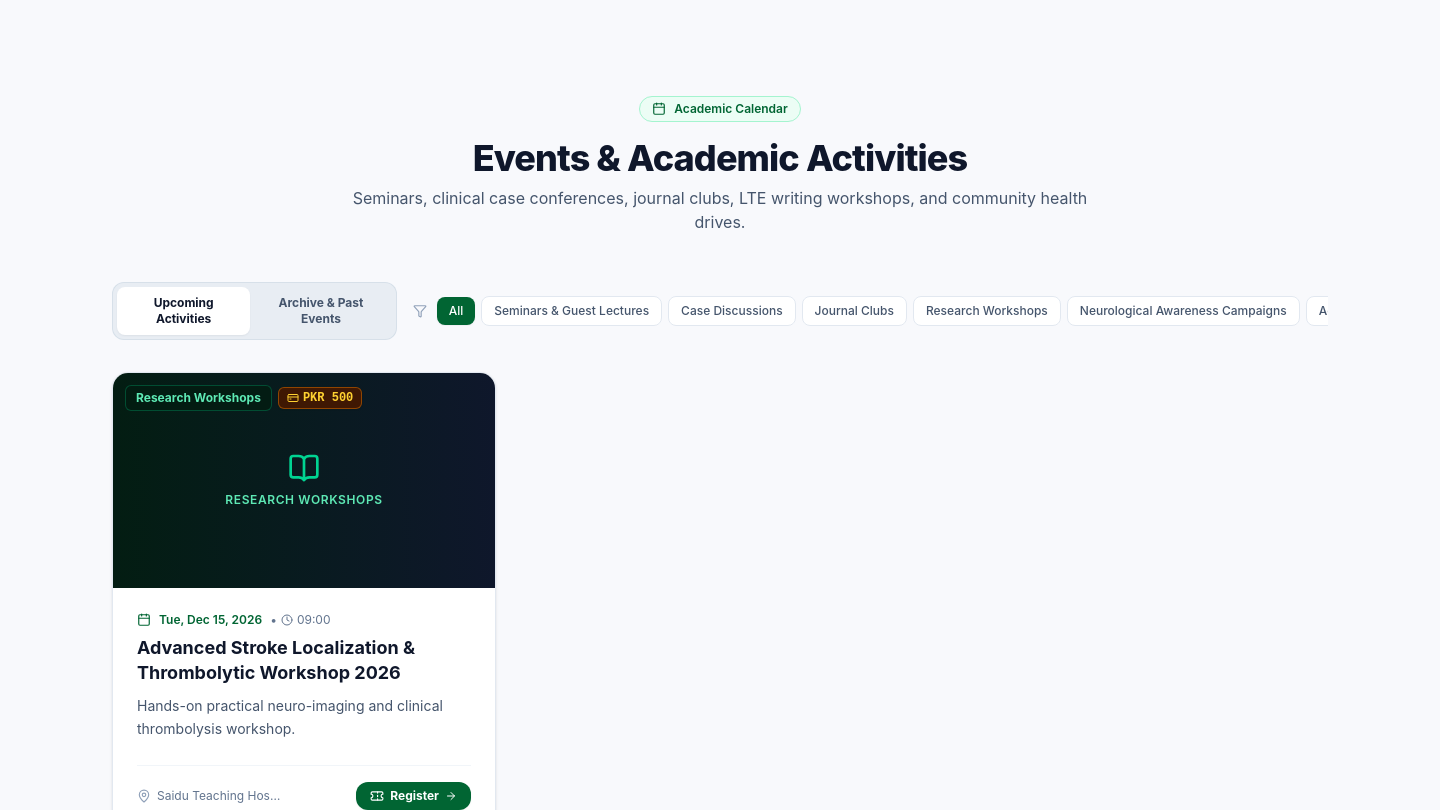
Test case: Event Registration System › renders Register button and pricing badge for upcoming events on EventsSection
The image size is (1440, 810).
Expected: the heading "Advanced Stroke Localization & Thrombolytic Workshop 2026" is shown, x1=137 y1=637 x2=415 y2=683
Expected: the text "PKR 500" is shown, x1=278 y1=387 x2=362 y2=409
# Clicking Register opens the registration modal with payment details
Click the button "Register": x=414, y=796 x1=356 y1=782 x2=471 y2=809
(page scrolled)
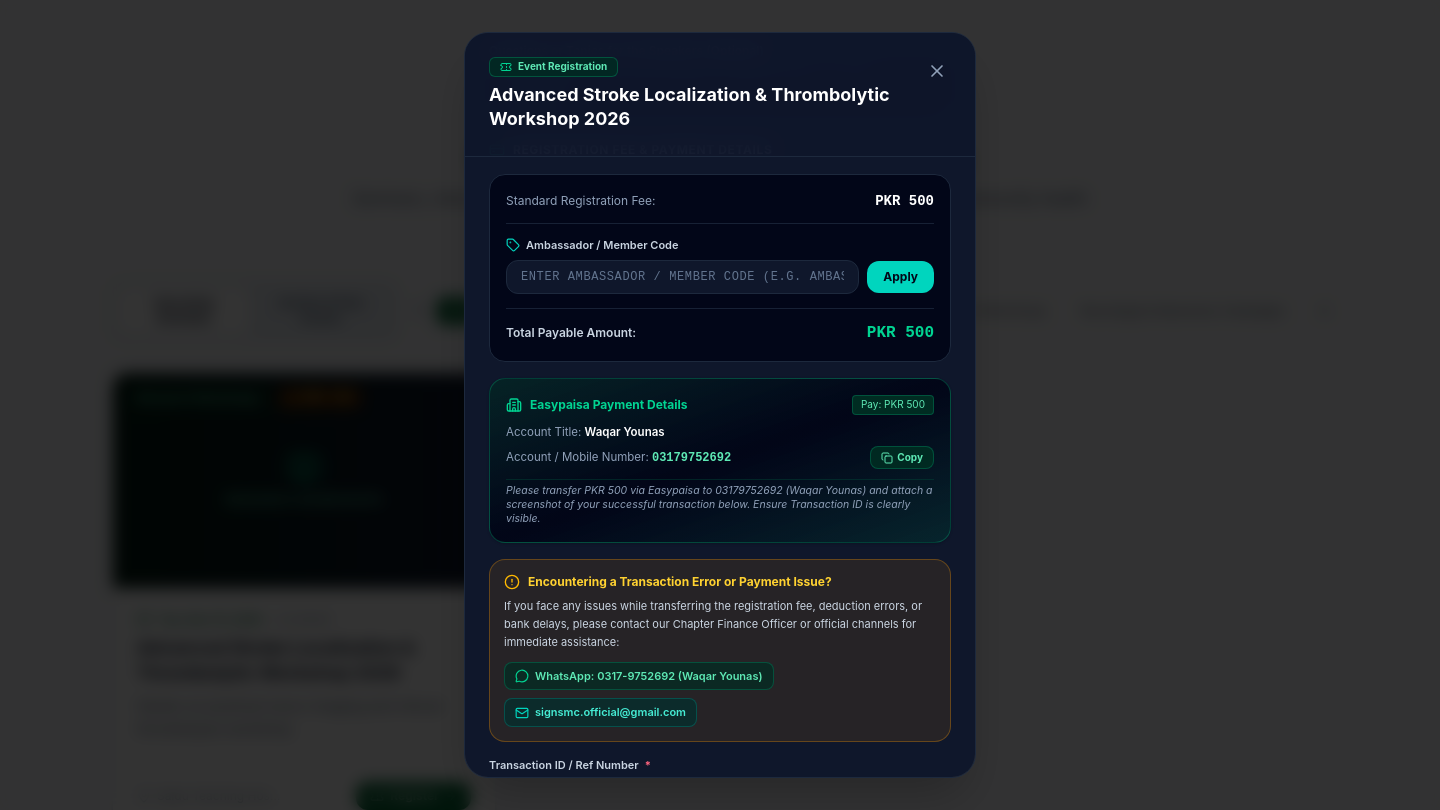
Expected: the text "Event Registration" is shown, x1=518 y1=60 x2=607 y2=74
Expected: the text "Easypaisa Payment Details" is shown, x1=530 y1=397 x2=688 y2=413
